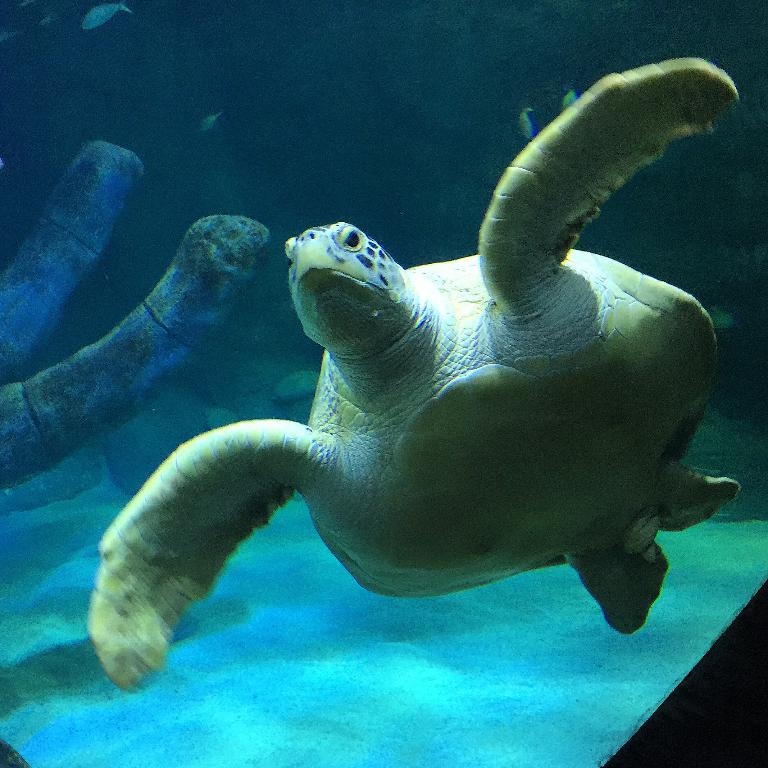Sea turtles: (88, 54, 741, 698)
